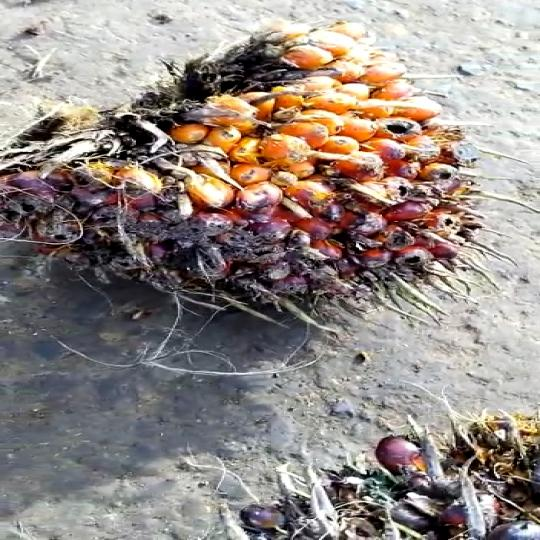masak: (0, 26, 497, 329)
